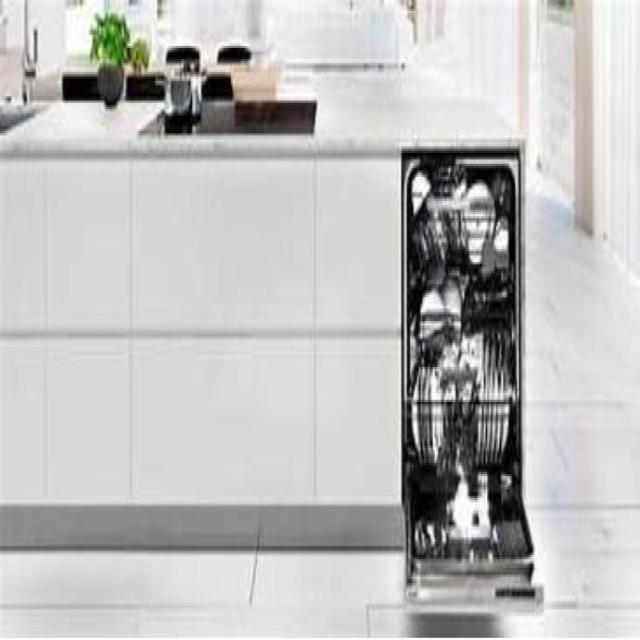dishwasher: (399, 142, 543, 614)
